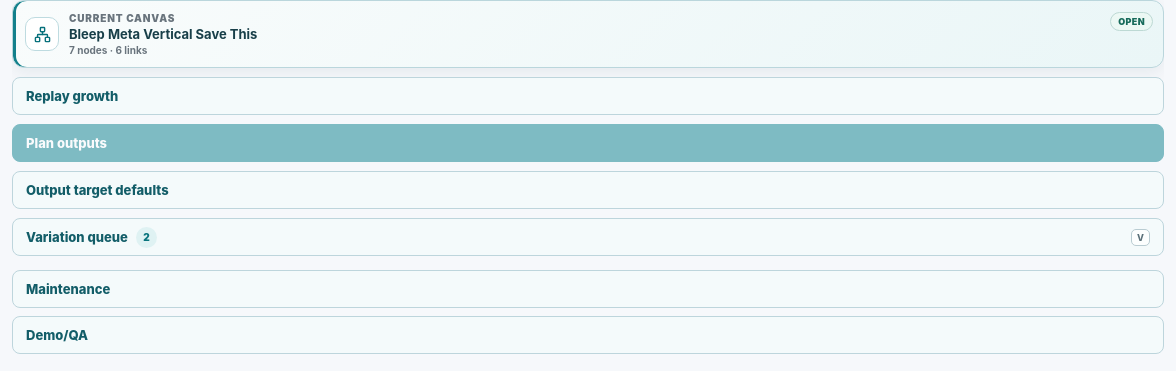
LineageToolbar › starts replay from its visible control and disables duplicate entry while active
The image size is (1176, 371).
Click the button "Replay growth" at (72, 96), box [12,77,1164,115]
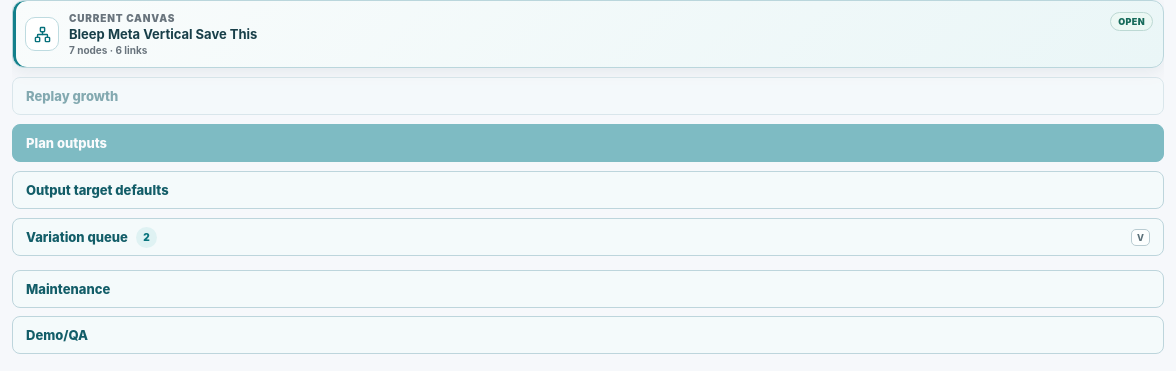
Check: the button "Replay growth" is disabled, box [12,77,1164,115]
